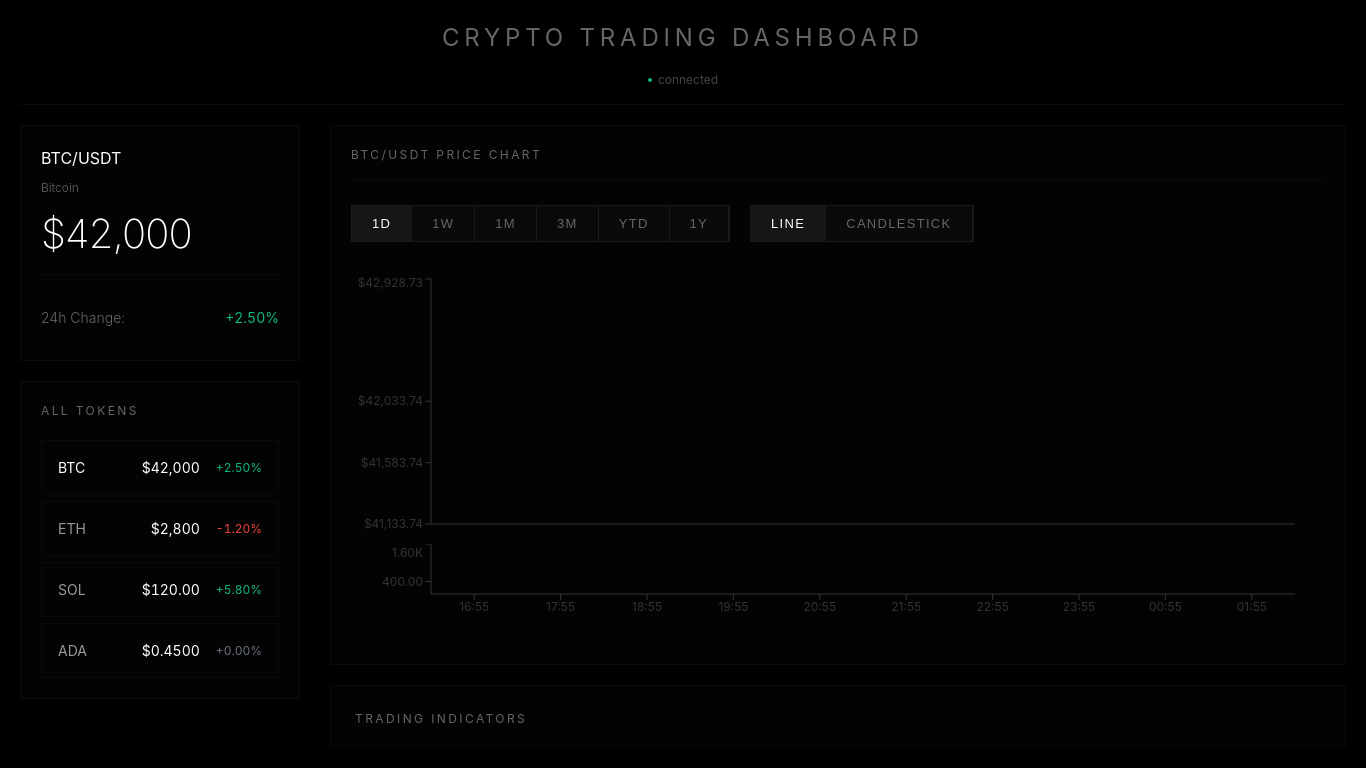
Test: App › switches between tokens
Expected: the text "Bitcoin" is shown, [41,180,79,195]
Click the text "ETH" at coordinates (160, 528), box [41,501,279,556]
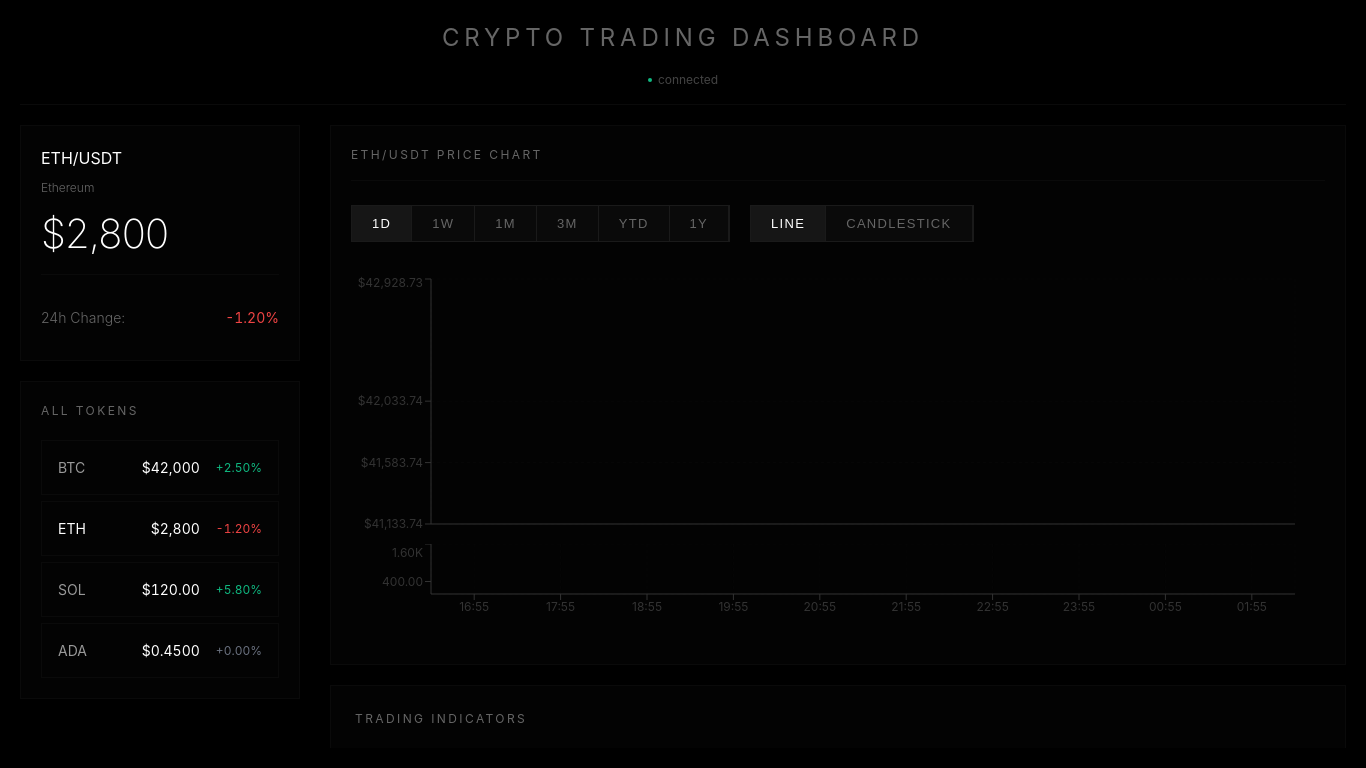
Now the text "Ethereum" is shown, box [41,180,94,195]
